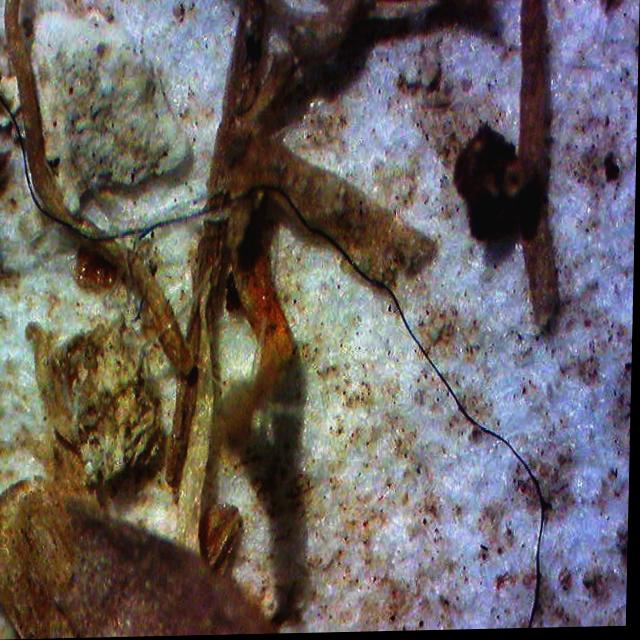microplastic: (0, 93, 547, 631)
